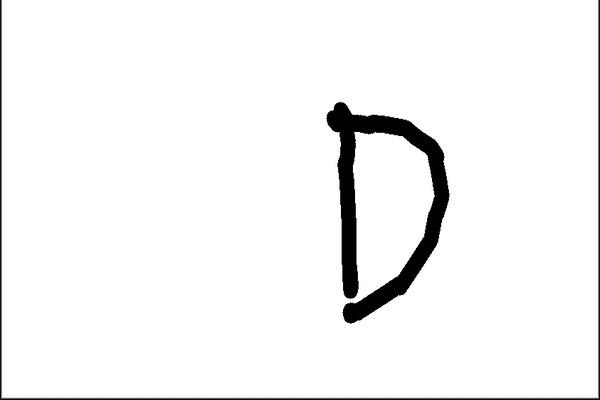D: (320, 97, 453, 327)
